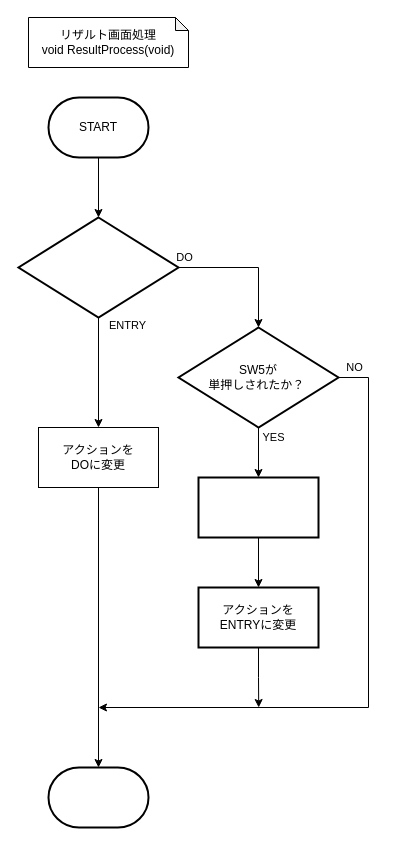
The diagram is 394 pixels wide and 846 high, and some of its shapes have lost their labels. Here are the shapes that lost their labels. From the top down, the centre of each, then its label:
At pixel 98 267: "アクションは？".
At pixel 258 507: "画面状態を タイトル画面に変更 ChangeState()".
At pixel 98 797: "END".
